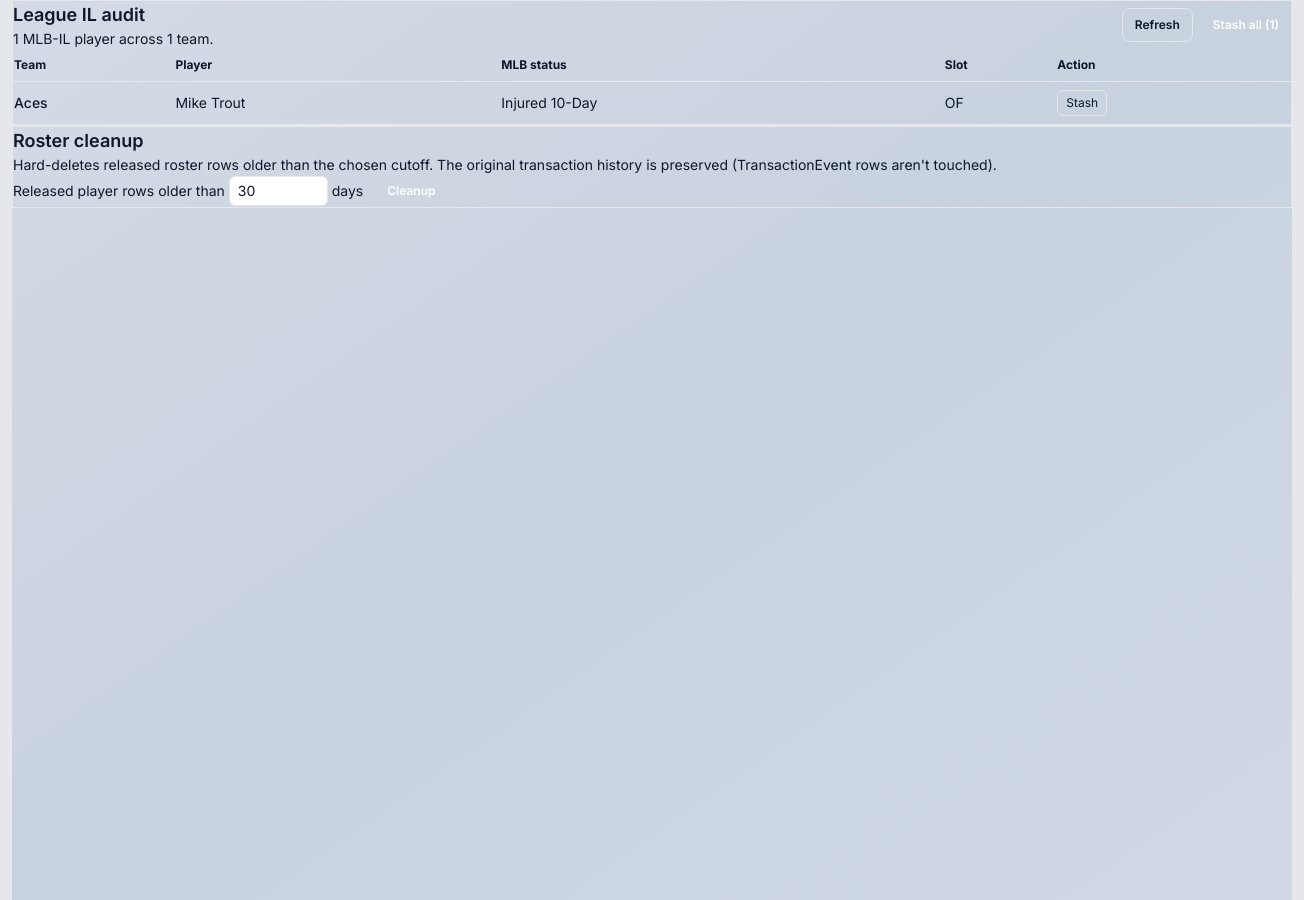
BulkOpsPanel — Stash all flow › shows the failure summary when some entries fail
Click the button with test id "il-stash-all" at [1246, 25], box [1201,9,1291,41]
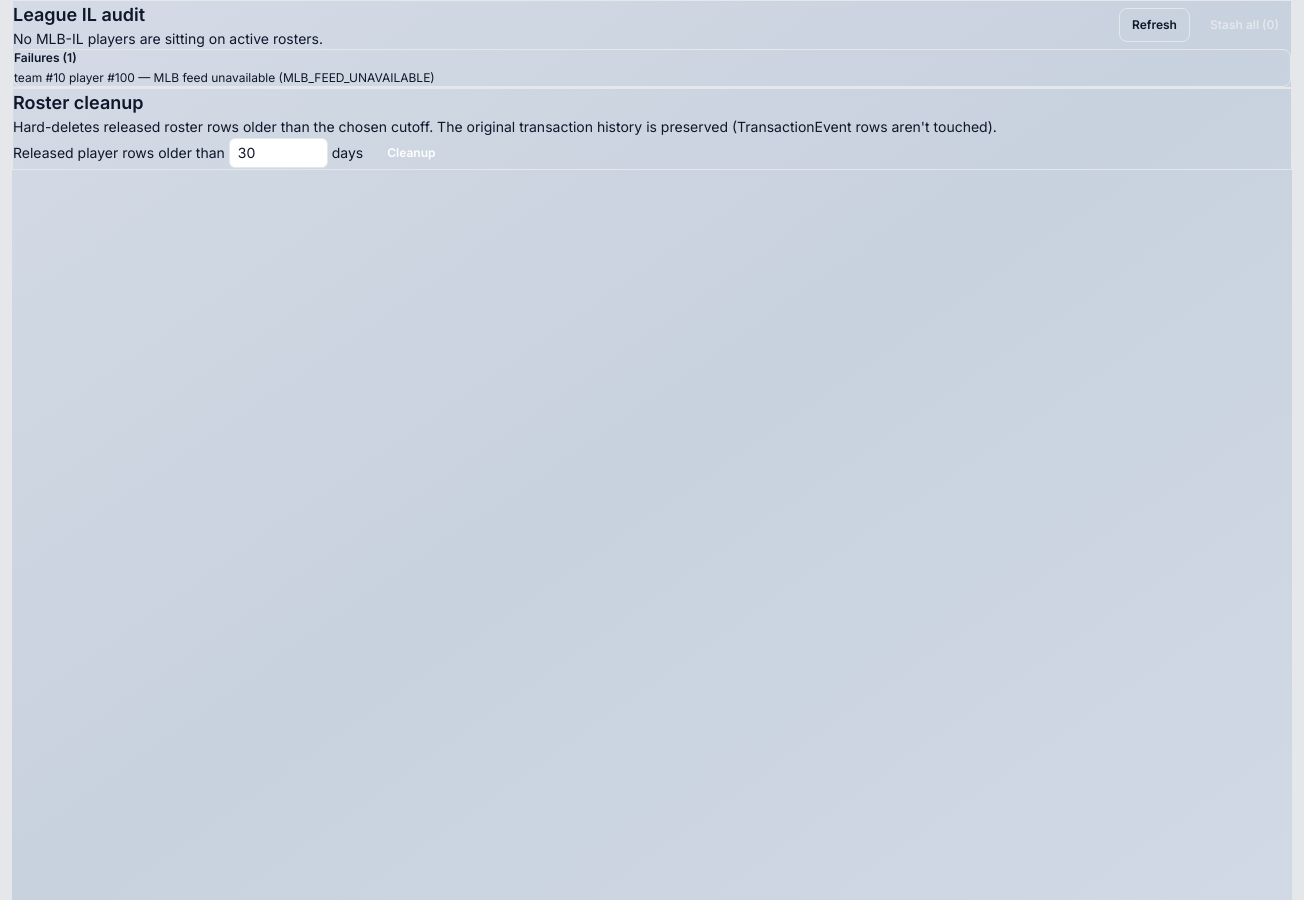
Check: the element with test id "il-bulk-failures" is shown, box [13,49,1291,87]
Check: the list item "MLB feed unavailable" is shown, box [154,70,275,85]
